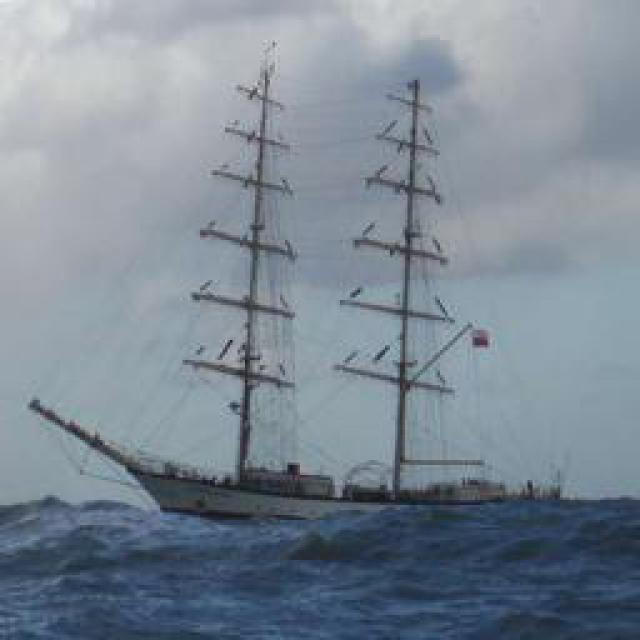Ship: (47, 43, 547, 521)
